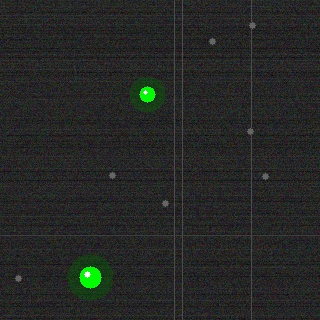green_normal: (77, 264, 103, 290), (137, 84, 157, 104)
